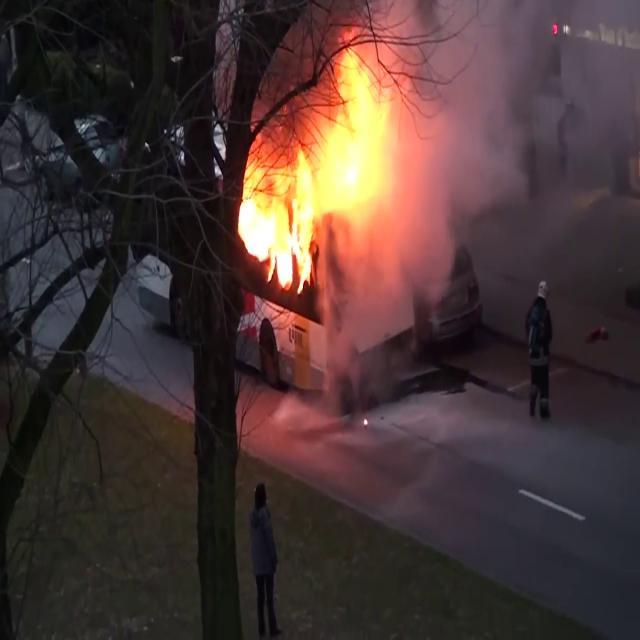Fire: (231, 42, 441, 328)
Smoke: (423, 0, 639, 280)
